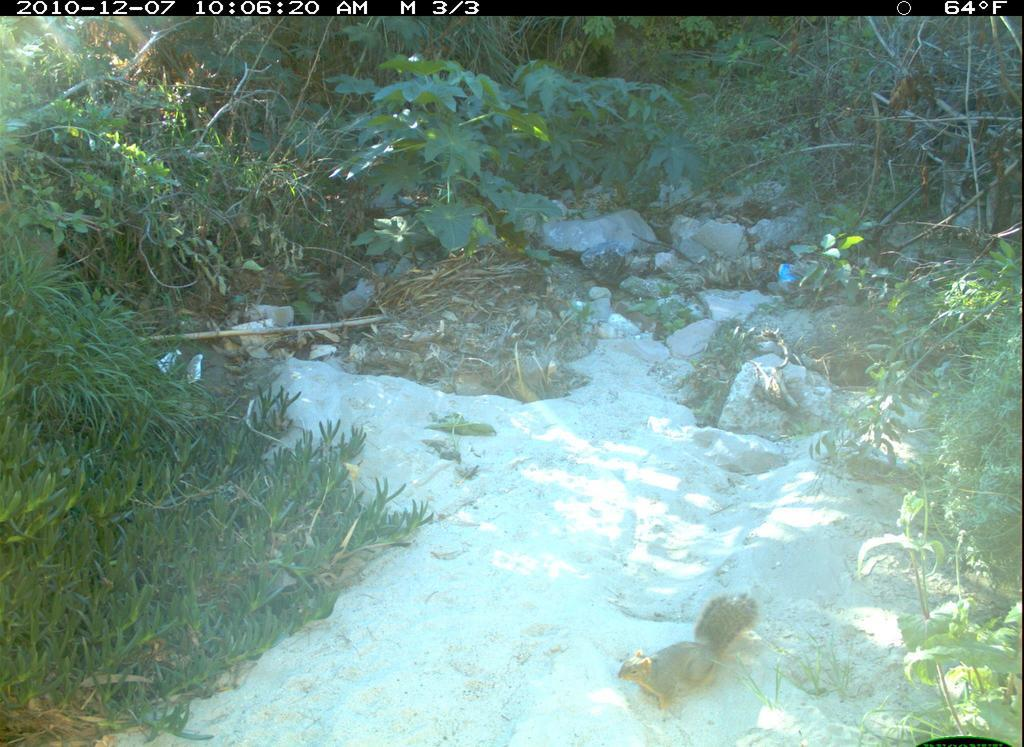squirrel: (603, 587, 772, 719)
